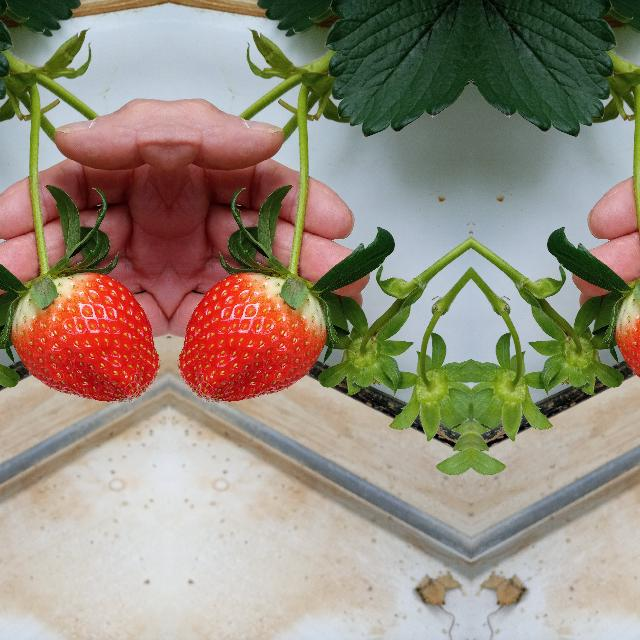Health_100: (175, 272, 327, 402), (9, 272, 161, 402)
